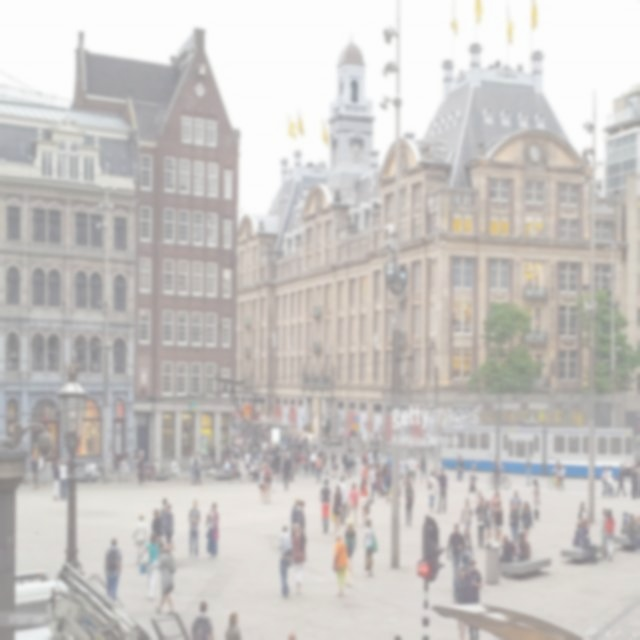pessoa: (154, 539, 178, 617), (139, 530, 162, 602), (464, 558, 484, 640), (446, 522, 466, 591), (272, 427, 312, 458), (278, 523, 294, 600), (104, 537, 122, 603), (290, 522, 306, 596), (452, 565, 467, 639), (229, 405, 243, 483), (333, 530, 349, 598), (190, 599, 216, 639), (362, 516, 378, 578), (187, 496, 202, 562), (132, 512, 150, 566), (251, 417, 272, 463), (579, 518, 599, 566), (204, 502, 220, 560), (343, 518, 358, 574), (318, 476, 332, 534), (458, 526, 474, 574), (498, 534, 515, 576), (330, 482, 343, 536), (402, 478, 416, 527), (482, 498, 496, 546), (464, 462, 480, 503), (624, 513, 640, 554), (474, 496, 486, 550), (492, 498, 504, 550), (604, 506, 615, 561), (224, 609, 244, 639), (436, 466, 448, 515), (520, 499, 534, 541), (61, 452, 73, 500), (296, 499, 306, 556), (338, 475, 349, 526), (358, 476, 369, 527), (426, 468, 438, 514), (530, 476, 542, 521), (164, 502, 174, 555), (598, 507, 608, 560), (508, 500, 520, 544), (458, 496, 474, 529), (491, 488, 502, 536), (262, 462, 274, 506), (290, 498, 302, 540), (348, 481, 359, 526), (368, 462, 379, 503), (58, 456, 68, 501), (616, 461, 628, 497), (256, 463, 266, 505), (150, 507, 163, 538), (508, 488, 522, 516), (429, 428, 442, 458), (51, 459, 60, 502), (629, 463, 639, 501), (30, 454, 40, 492), (36, 450, 46, 488), (281, 454, 291, 492), (270, 456, 280, 494), (374, 462, 384, 500), (137, 452, 147, 489), (383, 462, 392, 503), (550, 460, 562, 490), (420, 449, 430, 484), (192, 450, 202, 484), (347, 426, 364, 446), (520, 530, 531, 560), (160, 497, 168, 537), (555, 463, 566, 492), (170, 456, 182, 482), (243, 448, 253, 479), (342, 447, 352, 478), (516, 532, 526, 562), (84, 458, 94, 488), (132, 444, 142, 474), (243, 421, 252, 454), (600, 463, 608, 499), (406, 452, 415, 484), (106, 448, 116, 476), (492, 456, 500, 490), (606, 464, 614, 498), (191, 452, 199, 486), (314, 451, 322, 484), (572, 521, 582, 547), (578, 500, 588, 526), (148, 458, 158, 484), (208, 457, 218, 483), (524, 454, 532, 486), (606, 466, 614, 498), (403, 454, 411, 486), (402, 431, 413, 454), (320, 418, 332, 439), (309, 447, 317, 478), (123, 446, 131, 476), (398, 456, 406, 486), (248, 463, 260, 483), (106, 448, 115, 474), (218, 444, 226, 472), (286, 454, 294, 482), (350, 448, 358, 476), (634, 462, 640, 499), (143, 461, 153, 483), (366, 447, 376, 468), (297, 449, 305, 475), (380, 461, 388, 487), (320, 452, 328, 477), (332, 454, 340, 479), (375, 429, 386, 447), (329, 451, 336, 479), (362, 460, 369, 486), (456, 453, 462, 483), (280, 453, 286, 482), (294, 448, 300, 476), (458, 454, 464, 481), (304, 450, 310, 477), (476, 488, 484, 508), (632, 518, 640, 538), (362, 447, 370, 467), (412, 456, 418, 482), (622, 510, 630, 528), (372, 442, 378, 466), (210, 444, 216, 468), (396, 484, 402, 508), (153, 458, 161, 474), (98, 458, 105, 476), (286, 630, 298, 640), (376, 448, 382, 467), (190, 451, 194, 479), (386, 450, 392, 468), (370, 428, 374, 452), (634, 514, 640, 528), (366, 448, 370, 469), (224, 444, 232, 454), (388, 483, 392, 503), (90, 461, 96, 474), (393, 632, 401, 640), (340, 424, 344, 439), (349, 447, 352, 457), (626, 512, 630, 516)
